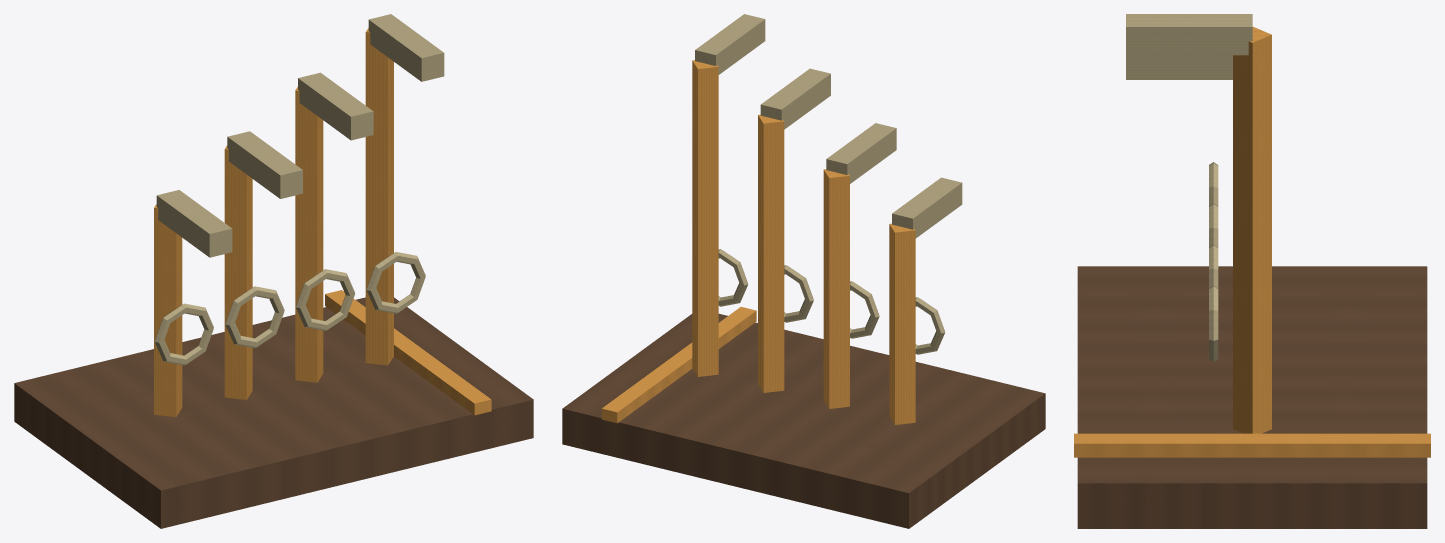
The model's file is atlas100-s019-a01.lod2.glb.
3 views of the same model, side by side, from view 1: azimuth 30°, elevation 25°; view 2: azimuth 150°, elevation 25°; view 3: azimuth 270°, elevation 25° (orthographic). The views are drawn at different scales.
Parts seen in each view (by area): view 1: atlas100-s019-a01:part-000, atlas100-s019-a01:part-012, atlas100-s019-a01:part-009, atlas100-s019-a01:part-006, atlas100-s019-a01:part-003, atlas100-s019-a01:part-002, atlas100-s019-a01:part-005, atlas100-s019-a01:part-014, atlas100-s019-a01:part-011, atlas100-s019-a01:part-008, atlas100-s019-a01:part-013, atlas100-s019-a01:part-007 (+2 smaller); view 2: atlas100-s019-a01:part-000, atlas100-s019-a01:part-012, atlas100-s019-a01:part-009, atlas100-s019-a01:part-006, atlas100-s019-a01:part-003, atlas100-s019-a01:part-002, atlas100-s019-a01:part-005, atlas100-s019-a01:part-014, atlas100-s019-a01:part-011, atlas100-s019-a01:part-008, atlas100-s019-a01:part-013, atlas100-s019-a01:part-004 (+2 smaller); view 3: atlas100-s019-a01:part-000, atlas100-s019-a01:part-012, atlas100-s019-a01:part-002, atlas100-s019-a01:part-014, atlas100-s019-a01:part-008, atlas100-s019-a01:part-011, atlas100-s019-a01:part-005, atlas100-s019-a01:part-013.
Part boxes in pixels (bbox=[...]): atlas100-s019-a01:part-000: bbox=[14, 297, 533, 528]; atlas100-s019-a01:part-012: bbox=[365, 28, 393, 365]; atlas100-s019-a01:part-009: bbox=[295, 86, 323, 382]; atlas100-s019-a01:part-006: bbox=[224, 145, 252, 399]; atlas100-s019-a01:part-003: bbox=[154, 204, 182, 417]; atlas100-s019-a01:part-002: bbox=[325, 290, 491, 415]; atlas100-s019-a01:part-005: bbox=[156, 190, 232, 257]; atlas100-s019-a01:part-014: bbox=[368, 14, 444, 81]; atlas100-s019-a01:part-011: bbox=[298, 72, 373, 140]; atlas100-s019-a01:part-008: bbox=[227, 131, 302, 198]; atlas100-s019-a01:part-013: bbox=[366, 252, 425, 313]; atlas100-s019-a01:part-007: bbox=[225, 286, 284, 348]; atlas100-s019-a01:part-000: bbox=[562, 313, 1045, 528]; atlas100-s019-a01:part-012: bbox=[692, 60, 718, 376]; atlas100-s019-a01:part-009: bbox=[758, 114, 784, 392]; atlas100-s019-a01:part-006: bbox=[823, 169, 849, 408]; atlas100-s019-a01:part-003: bbox=[889, 223, 915, 424]; atlas100-s019-a01:part-002: bbox=[601, 307, 756, 423]; atlas100-s019-a01:part-005: bbox=[892, 177, 962, 238]; atlas100-s019-a01:part-014: bbox=[695, 14, 765, 74]; atlas100-s019-a01:part-011: bbox=[760, 68, 830, 129]; atlas100-s019-a01:part-008: bbox=[826, 123, 896, 183]; atlas100-s019-a01:part-013: bbox=[718, 249, 748, 306]; atlas100-s019-a01:part-004: bbox=[915, 297, 945, 354]; atlas100-s019-a01:part-000: bbox=[1077, 266, 1427, 528]; atlas100-s019-a01:part-012: bbox=[1233, 27, 1271, 433]; atlas100-s019-a01:part-002: bbox=[1074, 433, 1430, 457]; atlas100-s019-a01:part-014: bbox=[1126, 14, 1252, 55]; atlas100-s019-a01:part-008: bbox=[1126, 63, 1232, 71]; atlas100-s019-a01:part-011: bbox=[1126, 55, 1232, 63]; atlas100-s019-a01:part-005: bbox=[1126, 72, 1232, 79]; atlas100-s019-a01:part-013: bbox=[1209, 285, 1218, 361].
Size of the model in its own units: 2.64 by 2.62 by 1.84.
Materials: 3 (3 with a texture image).
